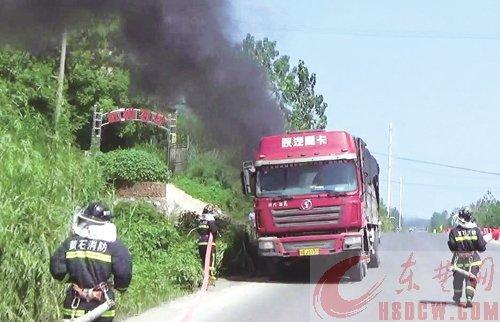smoke: (1, 1, 287, 141)
